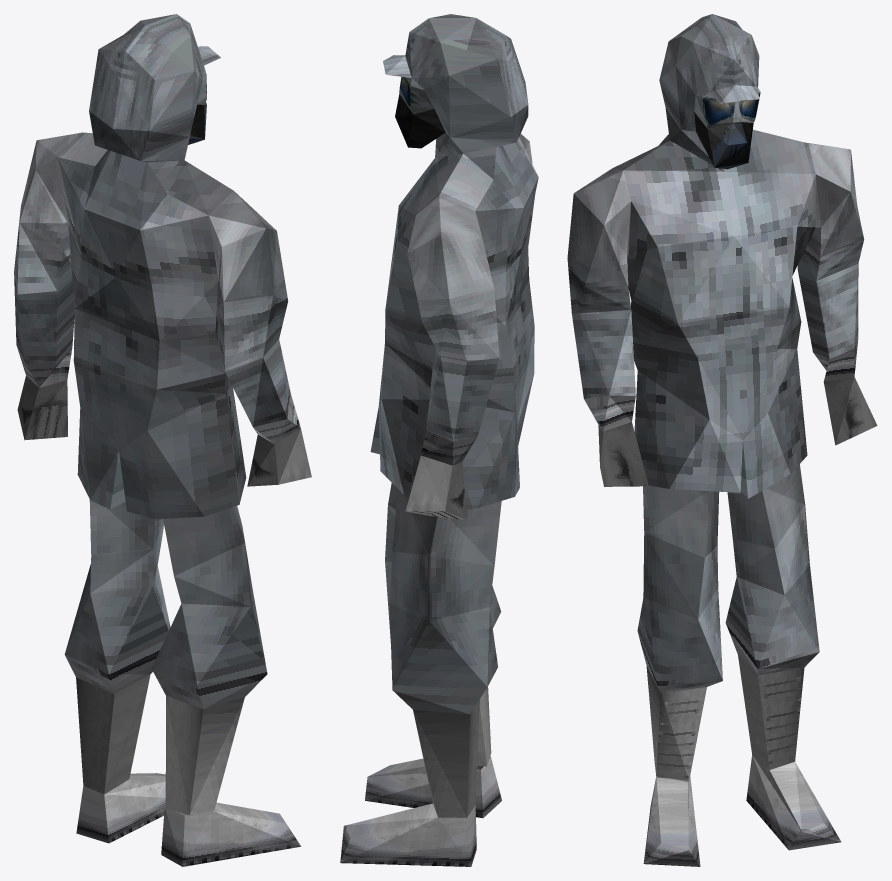
File: guard.glb
The picture shows the model from 3 angles, left to right: view 1: azimuth 30°, elevation 25°; view 2: azimuth 150°, elevation 25°; view 3: azimuth 270°, elevation 25°; orthographic projection. The views are drawn at different scales.
Visible parts, largest first — view 1: Object; view 2: Object; view 3: Object.
Part boxes in pixels (x1,y1,x2,y2): Object: [14, 14, 311, 866]; Object: [340, 14, 538, 866]; Object: [567, 14, 877, 866].
Bounding box in the file's own units: 0.5213 × 2.08 × 0.7339.
Materials: 71 (71 with a texture image).
